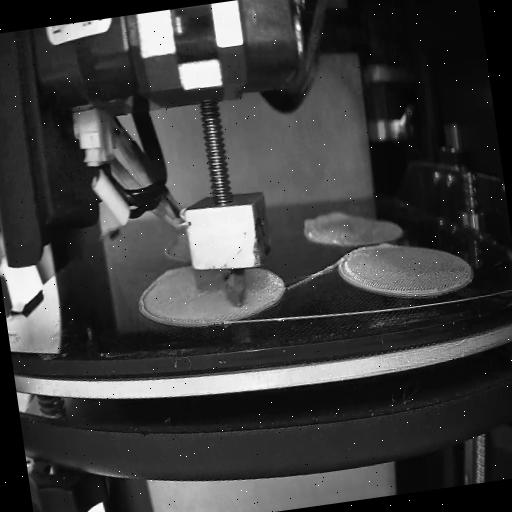over_extrusion: (135, 280, 164, 327), (300, 209, 348, 232), (379, 240, 397, 250)
